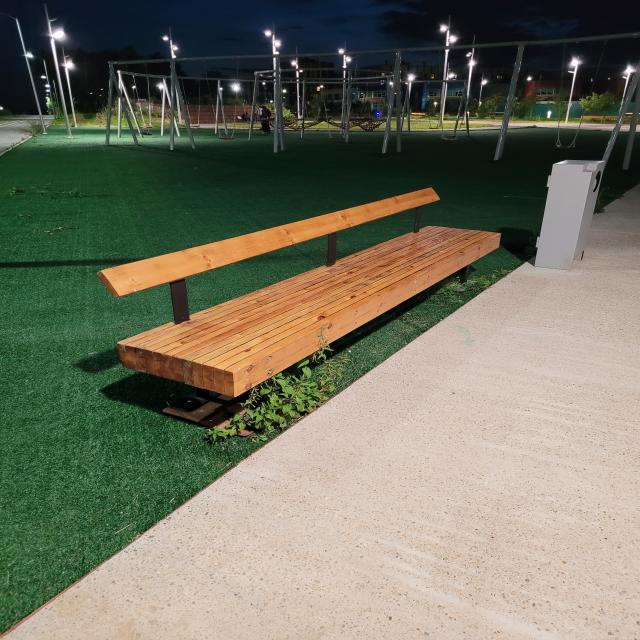Bench: (96, 187, 501, 399)
